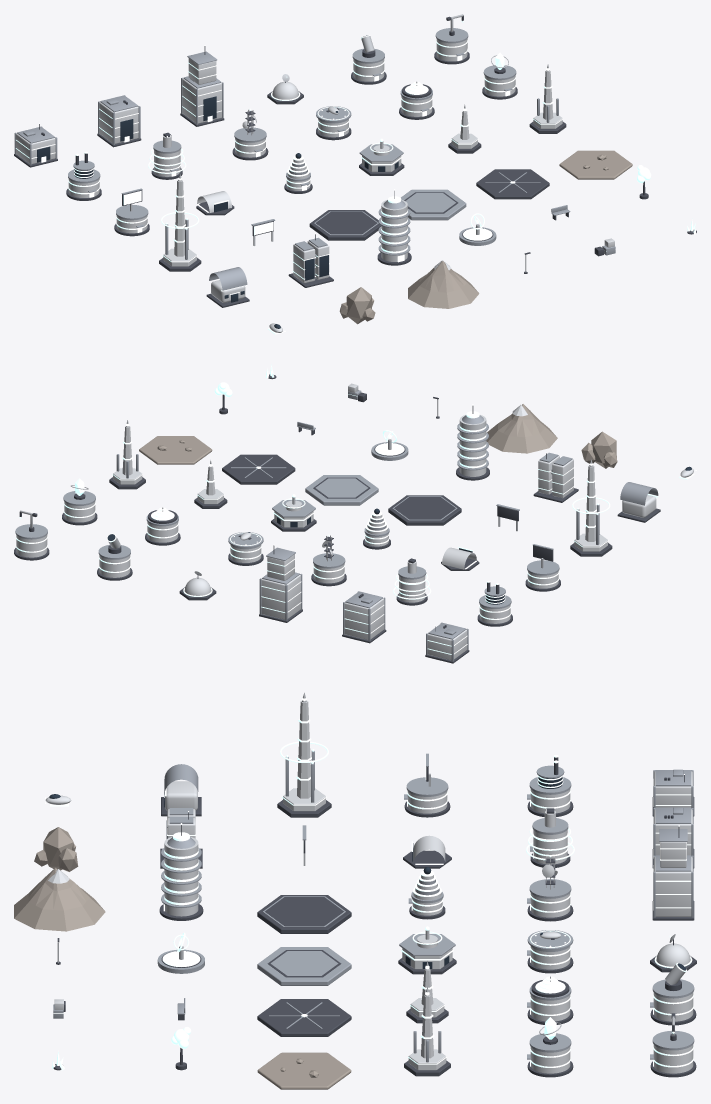
The model's file is city.glb.
3 views of the same model, one above another, from view 1: azimuth 30°, elevation 25°; view 2: azimuth 150°, elevation 25°; view 3: azimuth 270°, elevation 25° (orthographic). The views are drawn at different scales.
Parts seen in each view (by area): view 1: mountain.Ground, tile_lot.Dark, tile_street.Dark, house_l.Hull, tile_wild.Ground, tile_plaza.Panel, house_l_b.Hull, landmark_3.Hull, house_m.Hull, rock.Ground, house_m_b.Hull, house_l_b.Panel (+10 smaller); view 2: mountain.Ground, house_l.Hull, tile_lot.Dark, tile_plaza.Panel, tile_street.Dark, tile_wild.Ground, house_m.Hull, house_m_b.Hull, house_l_b.Hull, landmark_3.Hull, rock.Ground, house_s.Hull (+17 smaller); view 3: mountain.Ground, tile_lot.Dark, tile_wild.Ground, tile_street.Dark, tile_plaza.Panel, house_l.Hull, house_l_b.Hull, landmark_3.Hull, rock.Ground, house_l_b.Panel, landmark_2.Hull, work_inspector.Hull (+25 smaller).
Boxes of the visible parts, x1=… form: mountain.Ground: x1=408, y1=261, x2=479, y2=308; tile_lot.Dark: x1=309, y1=210, x2=381, y2=240; tile_street.Dark: x1=476, y1=169, x2=549, y2=199; house_l.Hull: x1=182, y1=58, x2=221, y2=123; tile_wild.Ground: x1=559, y1=150, x2=632, y2=179; tile_plaza.Panel: x1=401, y1=189, x2=466, y2=220; house_l_b.Hull: x1=381, y1=199, x2=407, y2=261; landmark_3.Hull: x1=163, y1=180, x2=196, y2=266; house_m.Hull: x1=99, y1=102, x2=138, y2=143; rock.Ground: x1=339, y1=287, x2=375, y2=324; house_m_b.Hull: x1=293, y1=240, x2=329, y2=283; house_l_b.Panel: x1=378, y1=200, x2=410, y2=255; mountain.Ground: x1=486, y1=404, x2=557, y2=453; house_l.Hull: x1=261, y1=554, x2=300, y2=619; tile_lot.Dark: x1=388, y1=495, x2=461, y2=525; tile_plaza.Panel: x1=305, y1=475, x2=378, y2=505; tile_street.Dark: x1=222, y1=454, x2=295, y2=484; tile_wild.Ground: x1=139, y1=436, x2=212, y2=464; house_m.Hull: x1=344, y1=598, x2=384, y2=639; house_m_b.Hull: x1=538, y1=455, x2=573, y2=498; house_l_b.Hull: x1=459, y1=415, x2=486, y2=476; landmark_3.Hull: x1=574, y1=465, x2=607, y2=551; rock.Ground: x1=581, y1=431, x2=617, y2=468; house_s.Hull: x1=427, y1=629, x2=467, y2=660; mountain.Ground: x1=14, y1=868, x2=105, y2=931; tile_lot.Dark: x1=257, y1=895, x2=351, y2=933; tile_wild.Ground: x1=257, y1=1052, x2=351, y2=1089; tile_street.Dark: x1=257, y1=999, x2=351, y2=1036; tile_plaza.Panel: x1=257, y1=947, x2=351, y2=985; house_l.Hull: x1=654, y1=842, x2=692, y2=916; house_l_b.Hull: x1=164, y1=836, x2=198, y2=916; landmark_3.Hull: x1=283, y1=701, x2=325, y2=811; rock.Ground: x1=34, y1=827, x2=78, y2=871; house_l_b.Panel: x1=161, y1=837, x2=201, y2=907; landmark_2.Hull: x1=408, y1=995, x2=446, y2=1070; work_inspector.Hull: x1=533, y1=810, x2=567, y2=864.
Bounding box in the file's own units: 14.39 × 3 × 14.44.
